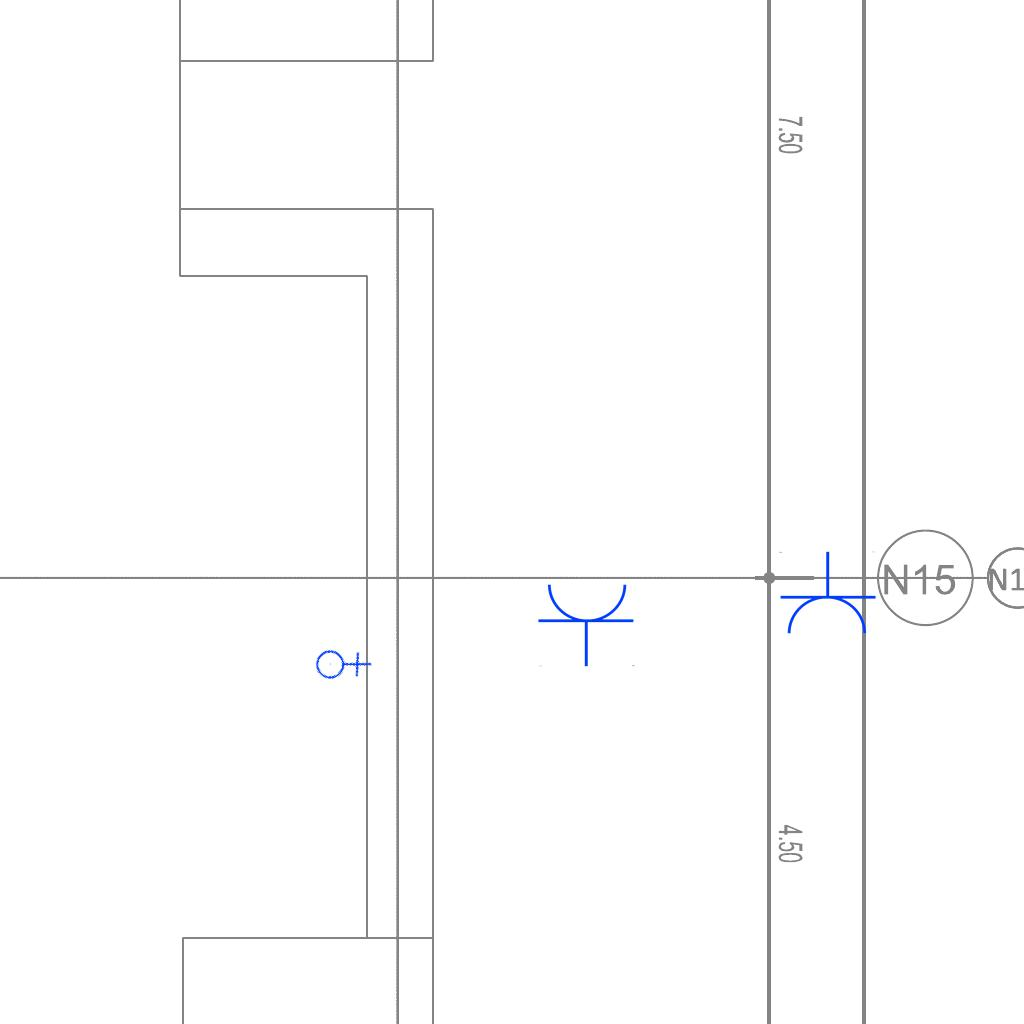Elektroanschluss_allgemein_230V_Geraeteanschlussdose_230V: (306, 628, 375, 697)
Schukosteckdose_einfach: (537, 580, 637, 667), (777, 551, 877, 638)
